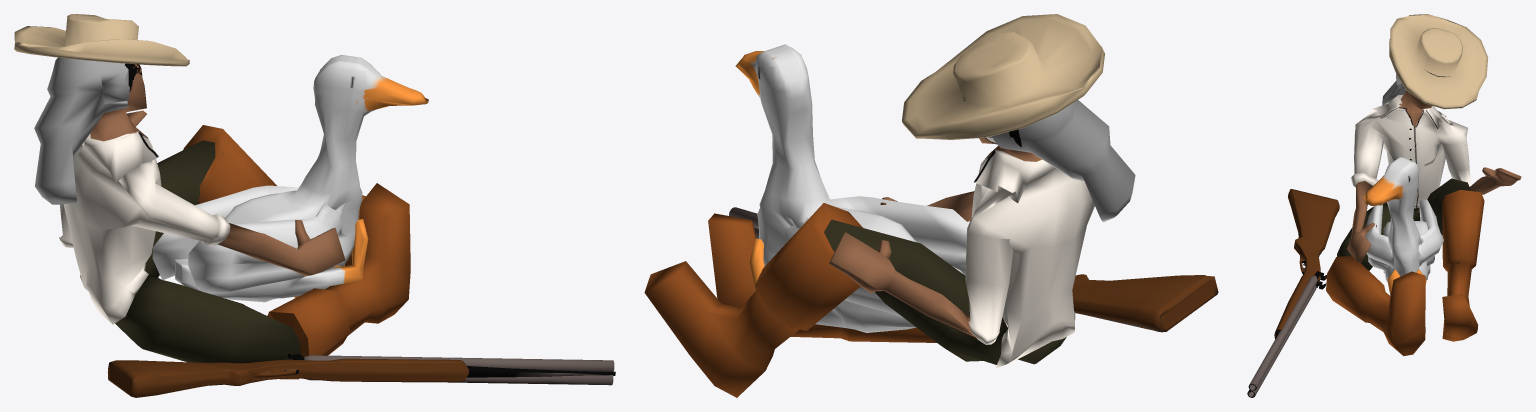
The model's file is bowmari_6.obj.
The picture shows the model from 3 angles, left to right: view 1: azimuth 30°, elevation 25°; view 2: azimuth 150°, elevation 25°; view 3: azimuth 270°, elevation 25°; orthographic projection. The views are drawn at different scales.
Parts seen in each view (by area): view 1: Default_Body_Cube, Cube.005, SHOTGUN_Cube.007, Hair_Cube.004, Hat_Cylinder; view 2: Default_Body_Cube, Cube.005, Hat_Cylinder, Hair_Cube.004, SHOTGUN_Cube.007; view 3: Default_Body_Cube, Hat_Cylinder, Cube.005, SHOTGUN_Cube.007, Hair_Cube.004.
Boxes of the visible parts, x1,y1,x2,y2 form: Default_Body_Cube: (59,63,410,379); Cube.005: (152,55,428,302); SHOTGUN_Cube.007: (107,353,615,397); Hair_Cube.004: (34,57,129,204); Hat_Cylinder: (14,14,189,66); Default_Body_Cube: (644,129,1094,397); Cube.005: (735,44,968,332); Hat_Cylinder: (902,14,1104,139); Hair_Cube.004: (992,100,1135,221); SHOTGUN_Cube.007: (729,207,1218,332); Default_Body_Cube: (1326,75,1521,356); Hat_Cylinder: (1389,14,1488,109); Cube.005: (1364,157,1443,295); SHOTGUN_Cube.007: (1247,189,1339,397); Hair_Cube.004: (1382,61,1417,105).
Size of the model in its own units: 6.88 by 5.17 by 5.27.
